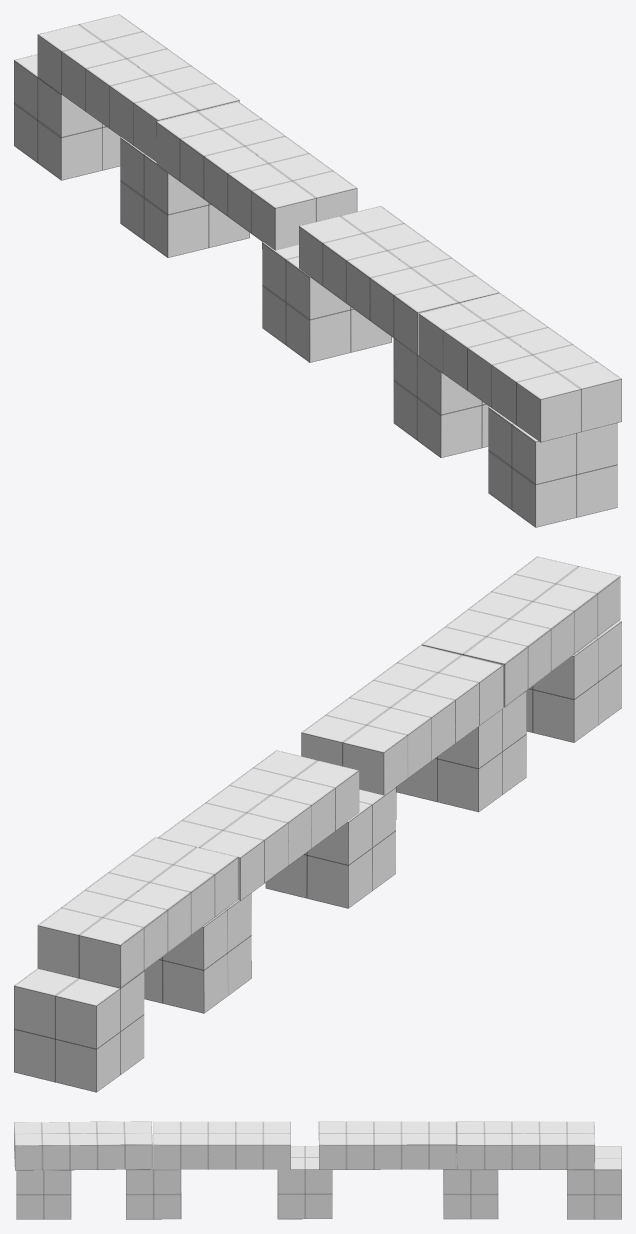
3 views of the same model, one above another, from view 1: azimuth 30°, elevation 25°; view 2: azimuth 150°, elevation 25°; view 3: azimuth 270°, elevation 25° (orthographic). The views are drawn at different scales.
Parts seen in each view (by area): view 1: GridPlank_0, GridPlank_0:2, GridPlank_0:3, GridPlank_0:1, Plane/BasicEnvironment/StartCube-1, GridCube_0:1, GridCube_0, Plane/BasicEnvironment/StartCube-2, GridCube_0:2; view 2: GridPlank_0:1, GridPlank_0:3, GridPlank_0:2, GridPlank_0, Plane/BasicEnvironment/StartCube-2, GridCube_0:1, GridCube_0:2, GridCube_0, Plane/BasicEnvironment/StartCube-1; view 3: GridPlank_0:1, GridPlank_0:2, GridPlank_0, GridPlank_0:3, GridCube_0:1, Plane/BasicEnvironment/StartCube-2, GridCube_0:2, GridCube_0, Plane/BasicEnvironment/StartCube-1.
Boxes of the visible parts, left/top/right/bottom form: GridPlank_0: left=418, top=293, right=621, bottom=442; GridPlank_0:2: left=156, top=101, right=357, bottom=250; GridPlank_0:3: left=299, top=206, right=499, bottom=355; GridPlank_0:1: left=37, top=14, right=239, bottom=161; Plane/BasicEnvironment/StartCube-1: left=488, top=406, right=617, bottom=527; GridCube_0:1: left=262, top=242, right=391, bottom=362; GridCube_0: left=120, top=137, right=249, bottom=257; Plane/BasicEnvironment/StartCube-2: left=14, top=54, right=120, bottom=180; GridCube_0:2: left=393, top=338, right=489, bottom=457; GridPlank_0:1: left=37, top=837, right=238, bottom=988; GridPlank_0:3: left=301, top=645, right=503, bottom=795; GridPlank_0:2: left=158, top=750, right=359, bottom=900; GridPlank_0: left=421, top=556, right=620, bottom=707; Plane/BasicEnvironment/StartCube-2: left=14, top=968, right=144, bottom=1092; GridCube_0:1: left=265, top=787, right=396, bottom=908; GridCube_0:2: left=396, top=691, right=526, bottom=812; GridCube_0: left=144, top=893, right=251, bottom=1013; Plane/BasicEnvironment/StartCube-1: left=526, top=621, right=621, bottom=742; GridPlank_0:1: left=456, top=1121, right=594, bottom=1169; GridPlank_0:2: left=318, top=1121, right=456, bottom=1169; GridPlank_0: left=14, top=1121, right=152, bottom=1170; GridPlank_0:3: left=153, top=1121, right=290, bottom=1169; GridCube_0:1: left=277, top=1146, right=332, bottom=1219; Plane/BasicEnvironment/StartCube-2: left=567, top=1146, right=621, bottom=1219; GridCube_0:2: left=126, top=1146, right=181, bottom=1219; GridCube_0: left=443, top=1153, right=498, bottom=1219; Plane/BasicEnvironment/StartCube-1: left=16, top=1170, right=71, bottom=1219.
Size of the model in its own units: 0.2102 by 0.3009 by 2.21.
